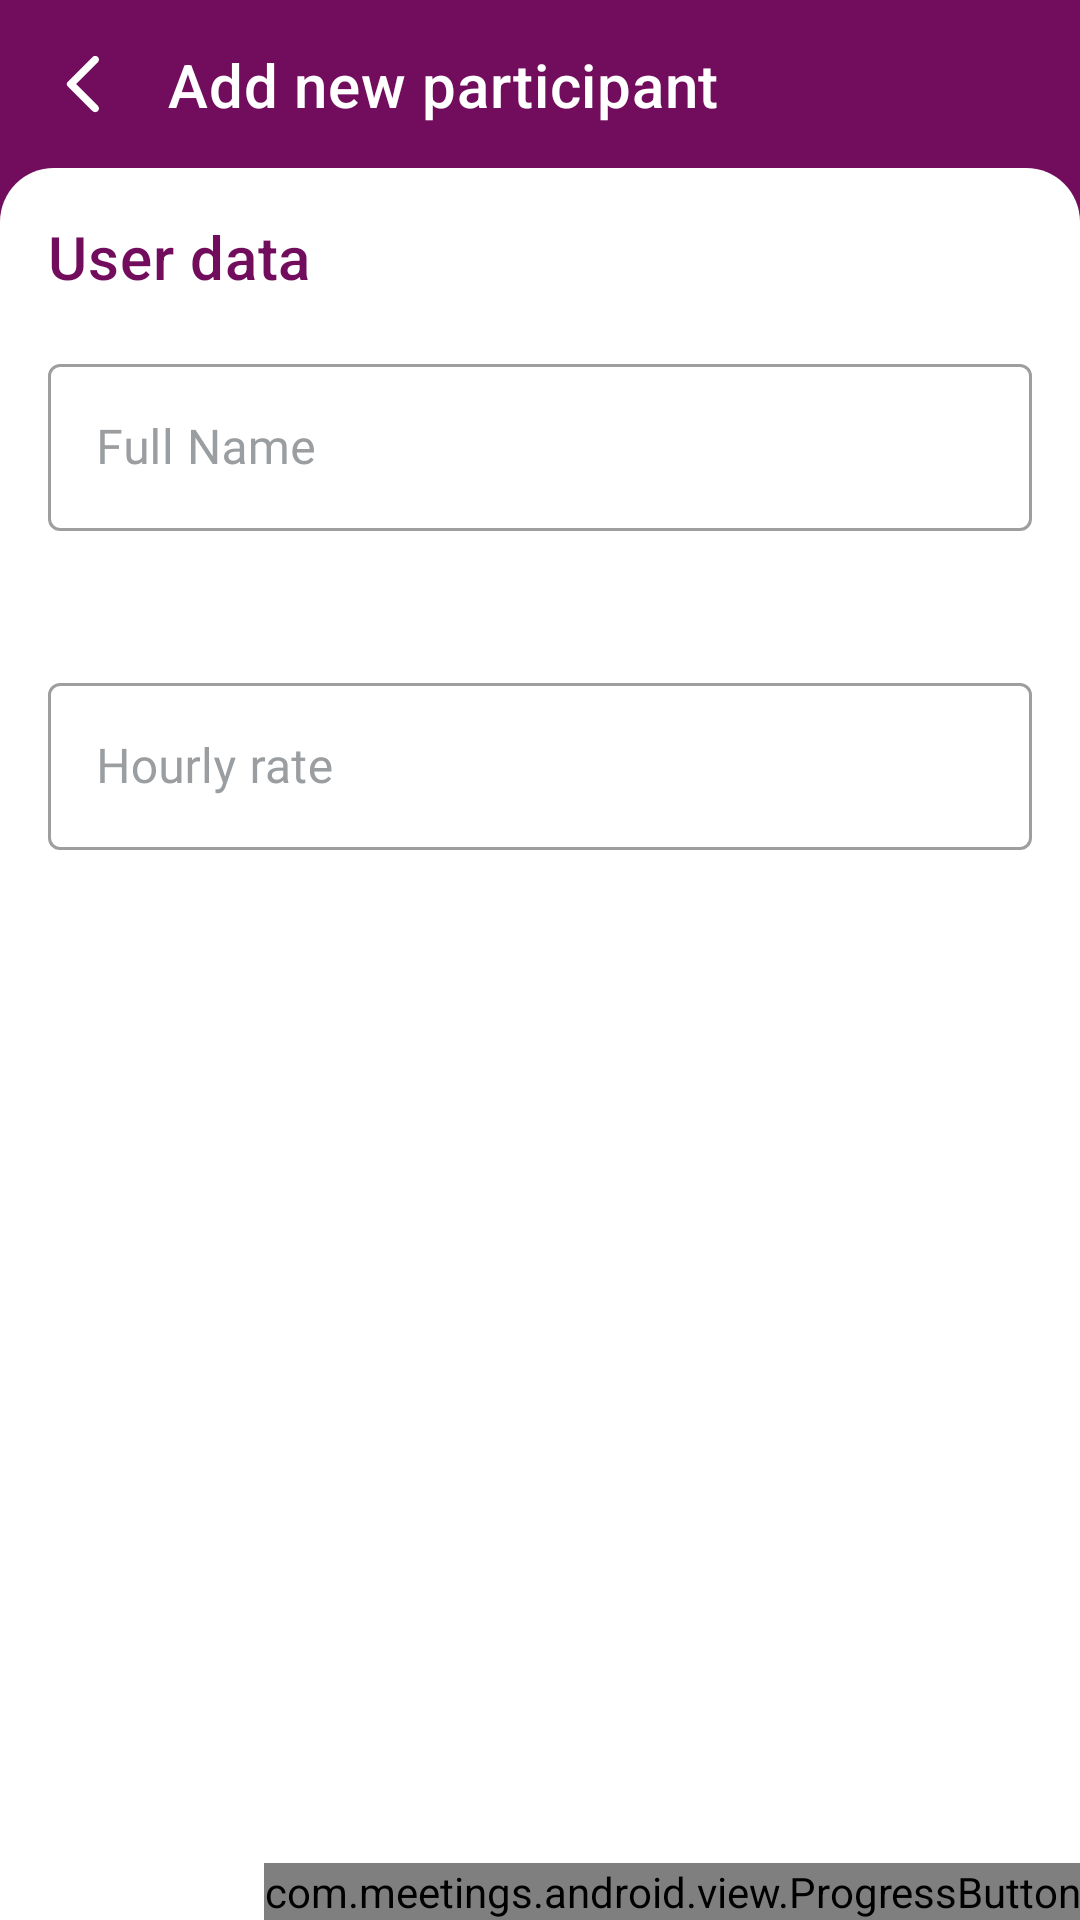

Icon bounding boxes for this 1080 × 1920 phone screenshot, format [x1,y1,x2,y2]:
arrow back: [66,56,99,113]
